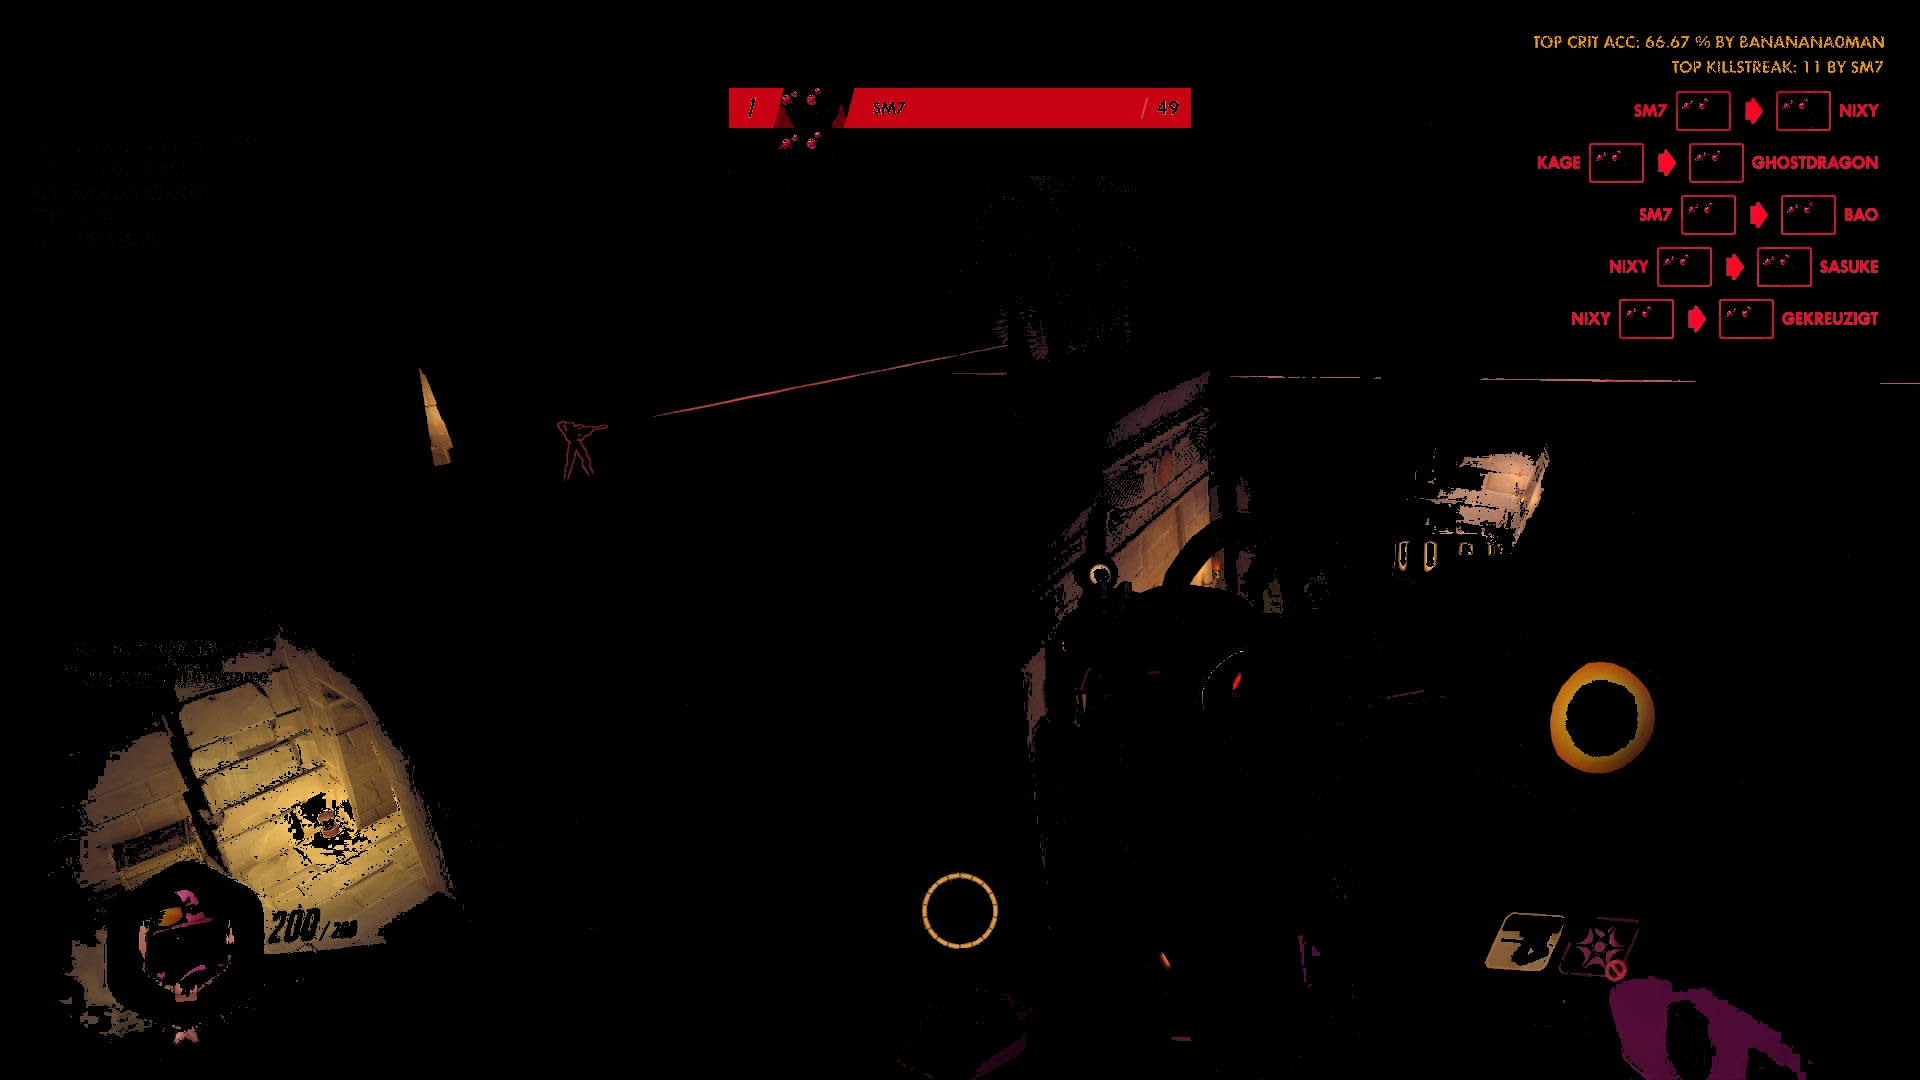widowmaker: (555, 417, 611, 492)
